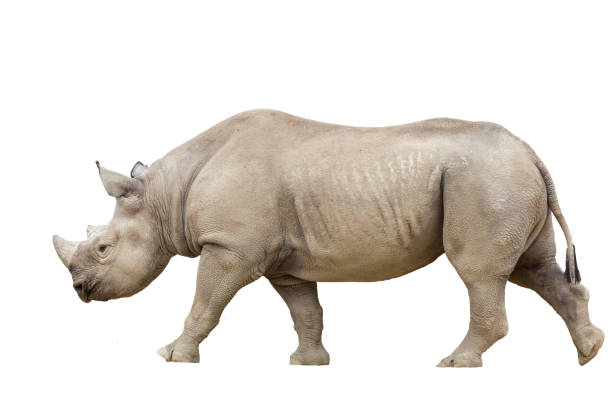rhino: (18, 144, 180, 308)
